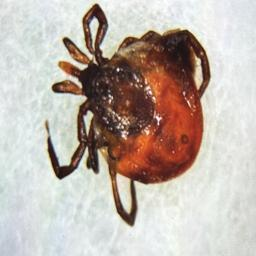Ixodes scapularis: (44, 10, 211, 225)
